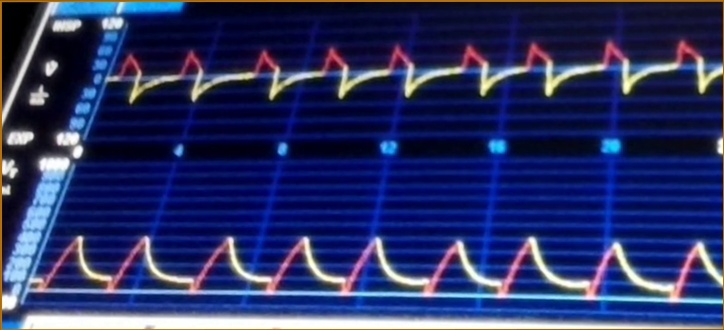Flow: (117, 28, 719, 133)
Leakage Volume: (50, 205, 720, 313)
